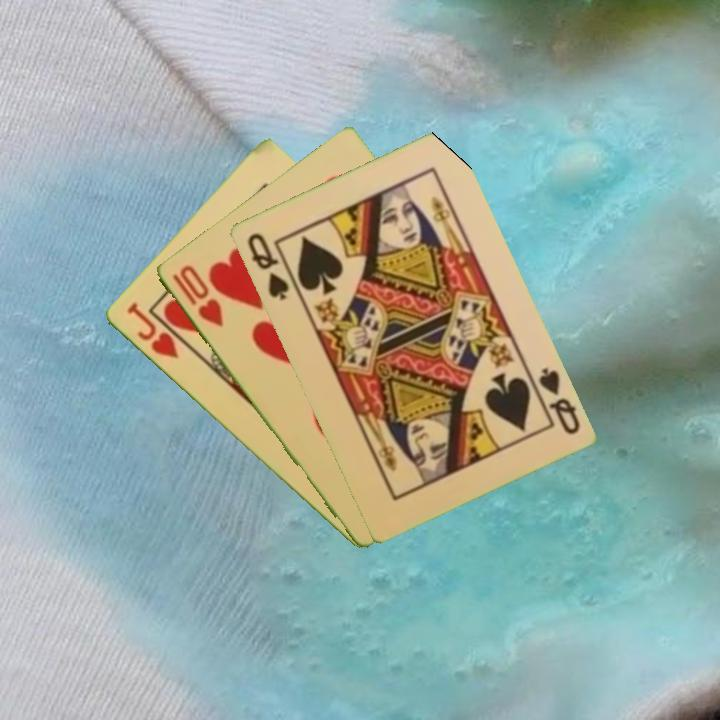10h: (168, 261, 226, 330)
Jh: (122, 299, 182, 362)
Qs: (525, 363, 582, 438), (243, 229, 292, 304)
